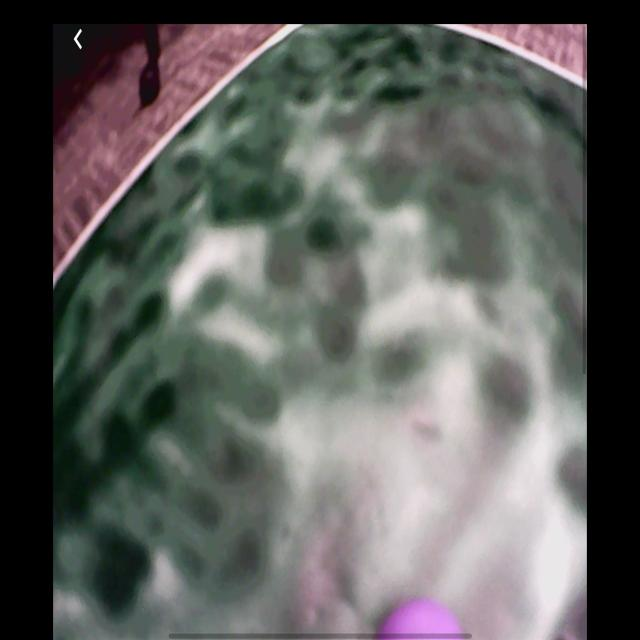ball: (380, 601, 474, 638)
